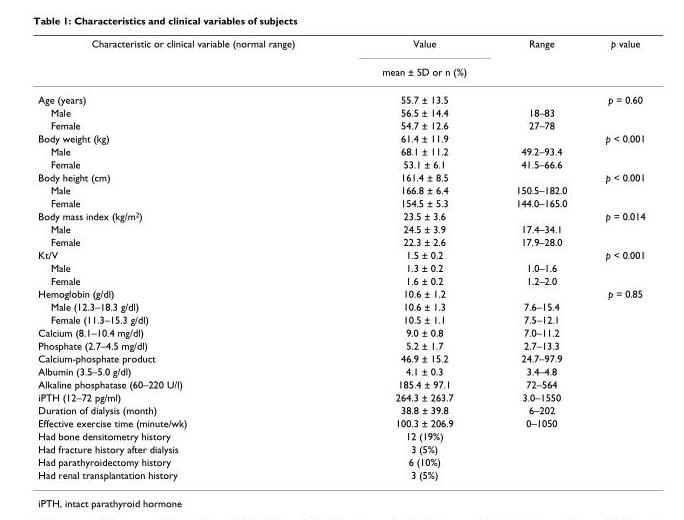table: (37, 37, 644, 480)
table column: (37, 37, 337, 480), (337, 37, 490, 480), (490, 37, 585, 480), (585, 37, 644, 480)
table column header: (37, 37, 644, 85)
table row: (37, 57, 644, 85), (37, 37, 644, 57), (37, 85, 644, 105), (37, 105, 644, 118), (37, 118, 644, 131), (37, 131, 644, 144), (37, 144, 644, 157), (37, 157, 644, 170), (37, 170, 644, 183), (37, 183, 644, 196), (37, 196, 644, 209), (37, 209, 644, 222), (37, 222, 644, 235), (37, 235, 644, 248), (37, 248, 644, 261), (37, 273, 644, 286), (37, 286, 644, 299), (37, 299, 644, 312), (37, 312, 644, 325), (37, 325, 644, 338), (37, 338, 644, 351), (37, 351, 644, 364), (37, 364, 644, 377), (37, 377, 644, 390), (37, 390, 644, 403), (37, 403, 644, 416), (37, 416, 644, 429), (37, 429, 644, 442), (37, 442, 644, 455), (37, 455, 644, 468), (37, 261, 644, 273), (37, 468, 644, 480)
table spanning cell: (37, 37, 337, 85), (337, 37, 490, 85), (490, 37, 585, 85), (585, 37, 644, 85)
